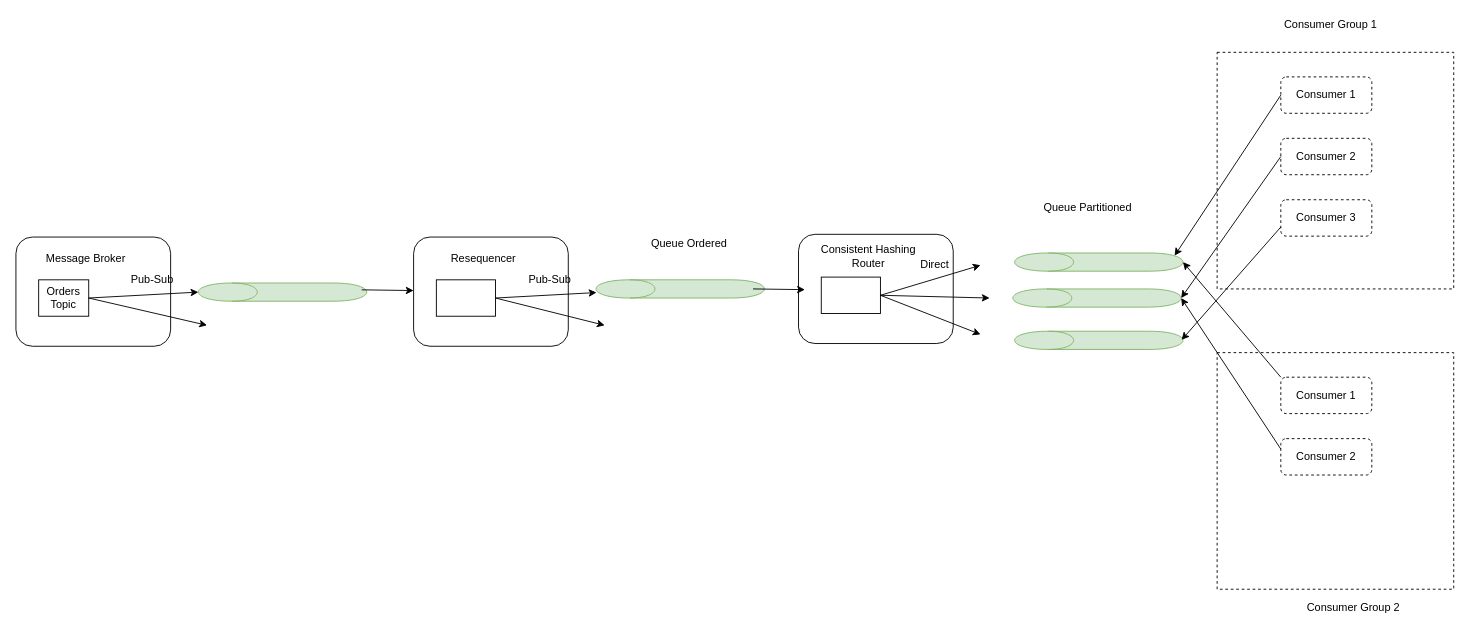
This 1470x632 diagram has some shape labels left out. Here are the shapes that lost their labels. From the top down, the centre of each, then its label:
At pixel 282 291: "Queue Not Ordered".
At pixel 465 297: "Sequential Orders Topic".
At pixel 850 294: "Hashed Orders Topic".
